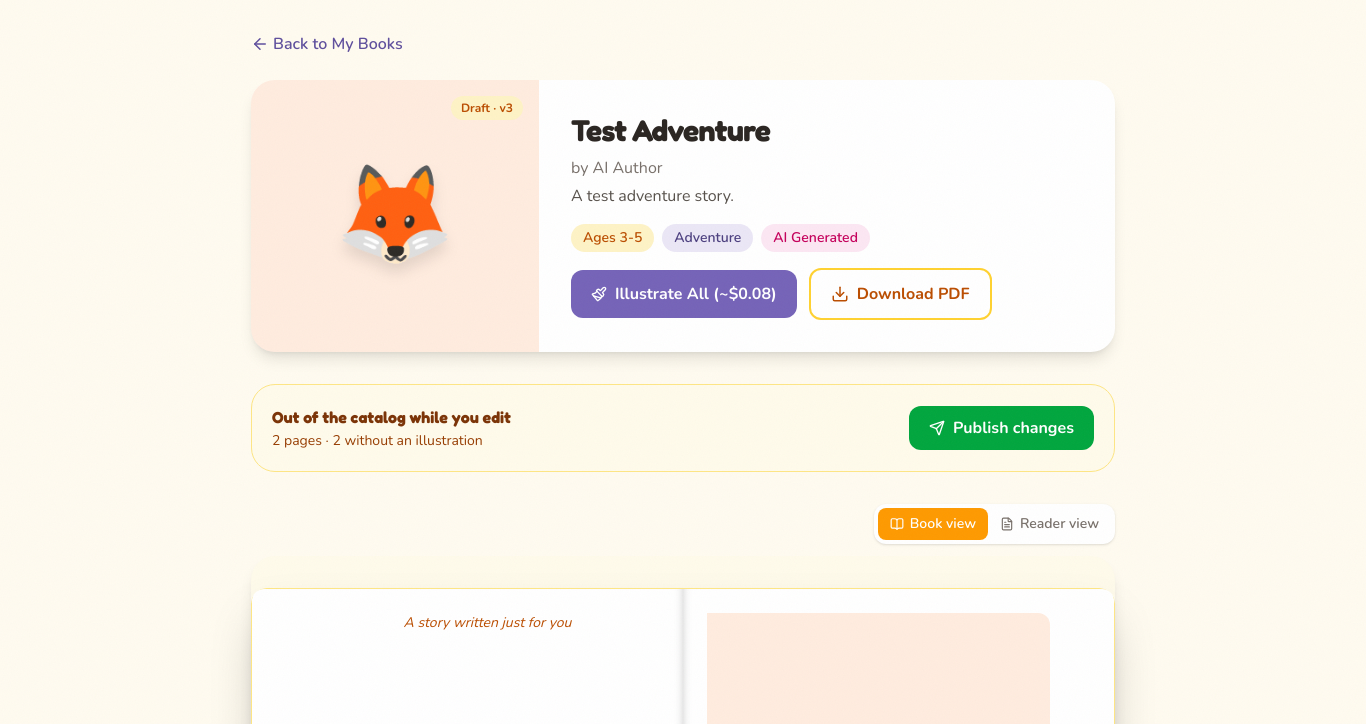
Test: BookDetail — Illustrate empty-response handling › still surfaces the server error field when the body is valid JSON
The image size is (1366, 724).
Click the button "Illustrate All (~$0.08)": point(684, 294) [571,270,797,318]
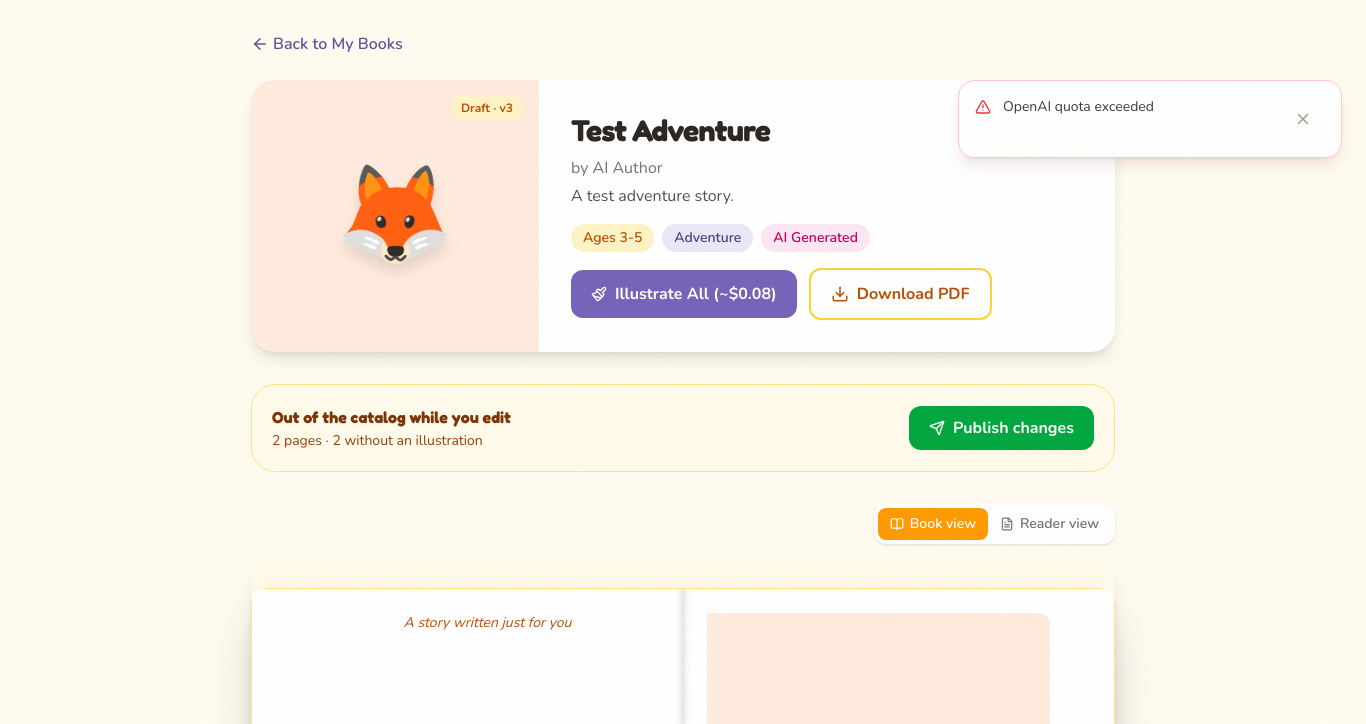
Expected: the text "OpenAI quota exceeded" is shown, [1003,97,1154,116]
